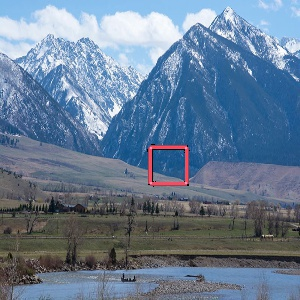square: (147, 145, 189, 186)
